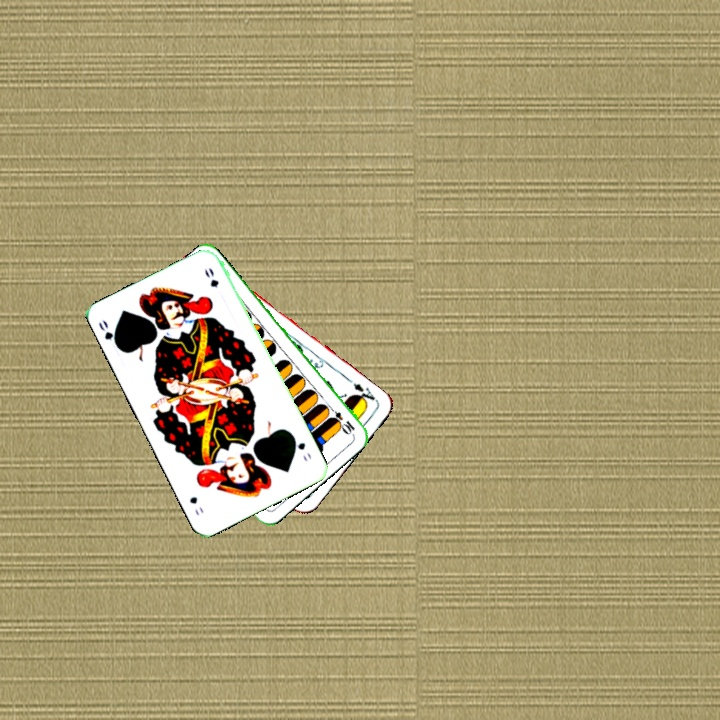E10: (324, 402, 358, 437)
EA: (349, 379, 380, 407)
GO: (94, 316, 123, 352), (288, 431, 314, 464)
